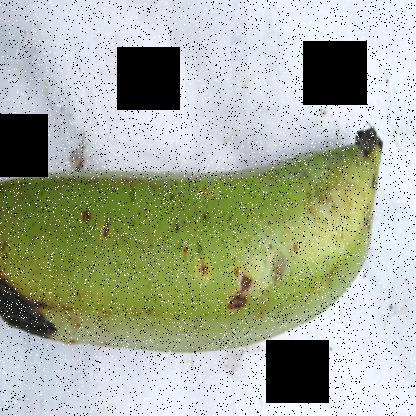unripe: (51, 126, 374, 374)
